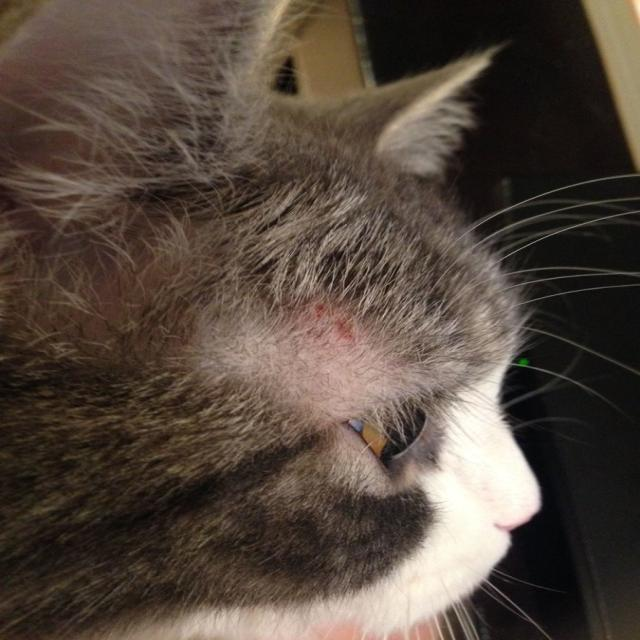hac lao: (198, 221, 462, 430)
